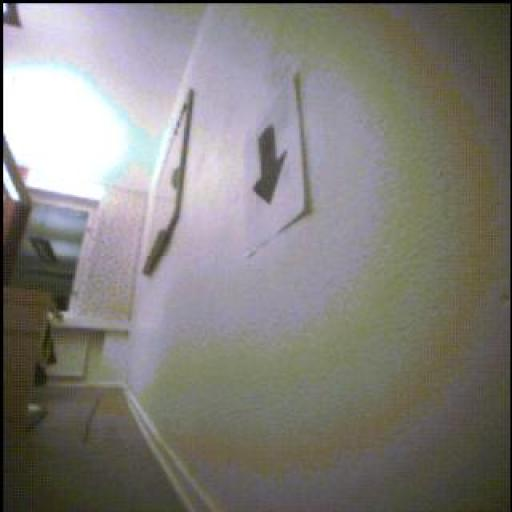Arrow: (254, 126, 287, 204)
